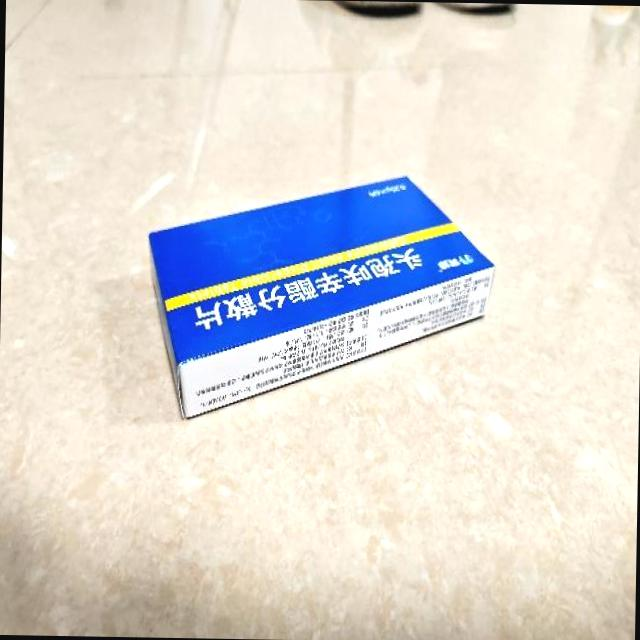box: (144, 171, 496, 421)
